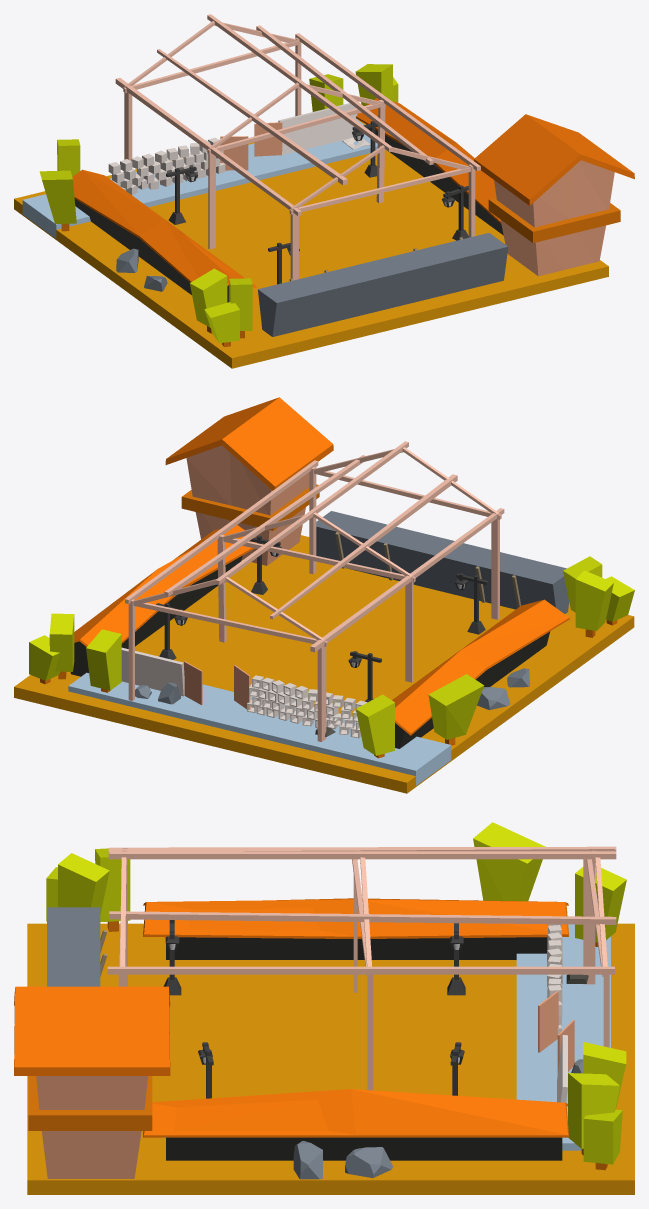
The picture shows the model from 3 angles, top to bottom: view 1: azimuth 30°, elevation 25°; view 2: azimuth 150°, elevation 25°; view 3: azimuth 270°, elevation 25°; orthographic projection. The views are drawn at different scales.
Visible parts, largest first — view 1: Cube, Cube.002, Cube.088, Cube.041, Cube.025, Cube.029, Cube.001, Cube.042, Cube.010, Cube.050, Cube.009, Cube.028 (+23 smaller); view 2: Cube, Cube.002, Cube.029, Cube.041, Cube.025, Cube.088, Cube.001, Cube.059, Cube.009, Cube.008, Cube.010, Cube.057 (+25 smaller); view 3: Cube, Cube.001, Cube.041, Cube.025, Cube.027, Cube.029, Cube.088, Cube.028, Cube.005, Cube.003, Cube.004, Cube.002 (+20 smaller).
Boxes of the visible parts, left/top/right/bottom form: Cube: left=14, top=119, right=608, bottom=368; Cube.002: left=258, top=233, right=508, bottom=336; Cube.088: left=494, top=160, right=614, bottom=276; Cube.041: left=474, top=114, right=634, bottom=205; Cube.025: left=72, top=169, right=256, bottom=288; Cube.029: left=22, top=120, right=377, bottom=238; Cube.001: left=356, top=98, right=501, bottom=224; Cube.042: left=488, top=197, right=620, bottom=242; Cube.010: left=289, top=145, right=470, bottom=214; Cube.050: left=278, top=103, right=357, bottom=154; Cube.009: left=123, top=21, right=300, bottom=92; Cube.028: left=74, top=199, right=229, bottom=302; Cube: left=14, top=535, right=634, bottom=793; Cube.002: left=316, top=511, right=569, bottom=613; Cube.029: left=68, top=672, right=451, bottom=785; Cube.041: left=165, top=397, right=333, bottom=490; Cube.025: left=392, top=599, right=569, bottom=735; Cube.088: left=186, top=445, right=309, bottom=565; Cube.001: left=74, top=525, right=262, bottom=646; Cube.059: left=428, top=674, right=484, bottom=739; Cube.009: left=133, top=577, right=327, bottom=646; Cube.008: left=223, top=512, right=415, bottom=582; Cube.010: left=314, top=447, right=501, bottom=519; Cube.057: left=356, top=694, right=394, bottom=755; Cube: left=27, top=923, right=634, bottom=1194; Cube.001: left=143, top=1089, right=568, bottom=1137; Cube.041: left=14, top=986, right=170, bottom=1075; Cube.025: left=143, top=898, right=568, bottom=938; Cube.027: left=166, top=1137, right=562, bottom=1160; Cube.029: left=516, top=924, right=610, bottom=1150; Cube.088: left=36, top=1076, right=147, bottom=1178; Cube.028: left=166, top=937, right=547, bottom=959; Cube.005: left=107, top=966, right=614, bottom=974; Cube.003: left=109, top=851, right=616, bottom=859; Cube.004: left=109, top=911, right=616, bottom=924; Cube.002: left=47, top=907, right=100, bottom=986.
Bounding box in the file's own units: 66.97 × 23.31 × 61.3.
